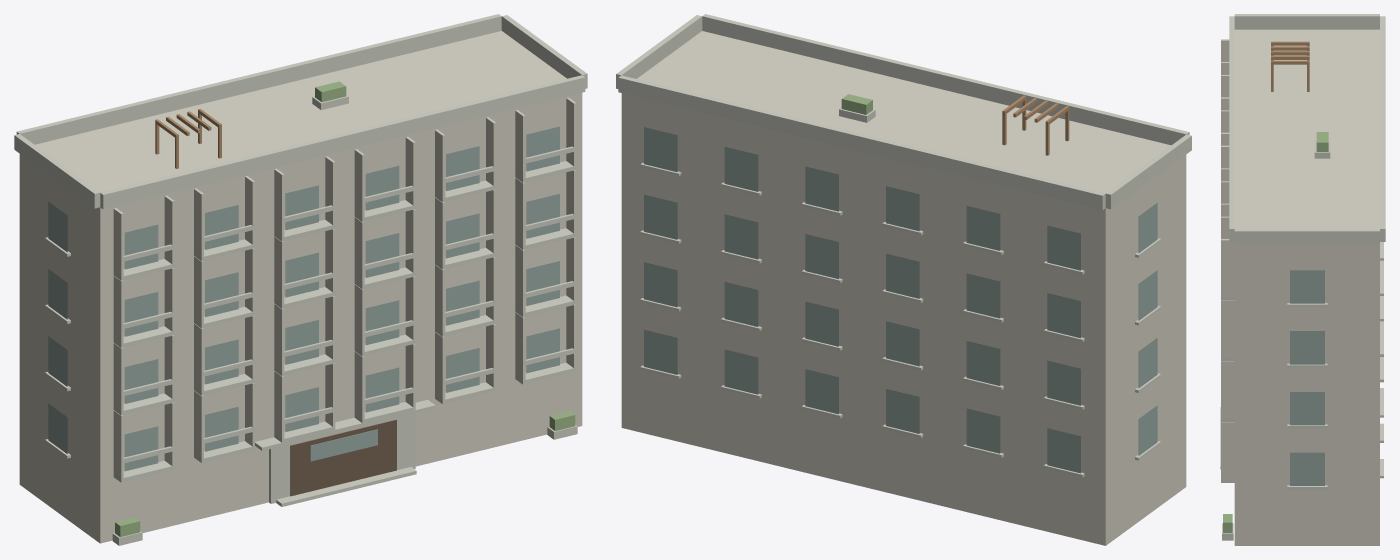
Rendered from residential_3x1_b.glb.
3 renders of one model, left to right at view 1: azimuth 30°, elevation 25°; view 2: azimuth 150°, elevation 25°; view 3: azimuth 270°, elevation 25°, orthographic. The views are drawn at different scales.
Visible parts, largest first — view 1: residential_3x1_b_0; view 2: residential_3x1_b_0; view 3: residential_3x1_b_0.
Part boxes in pixels (bbox=[...]): residential_3x1_b_0: bbox=[14, 14, 587, 545]; residential_3x1_b_0: bbox=[616, 14, 1191, 545]; residential_3x1_b_0: bbox=[1220, 14, 1385, 545].
Bounding box in the file's own units: 23 × 16.5 × 7.4.
